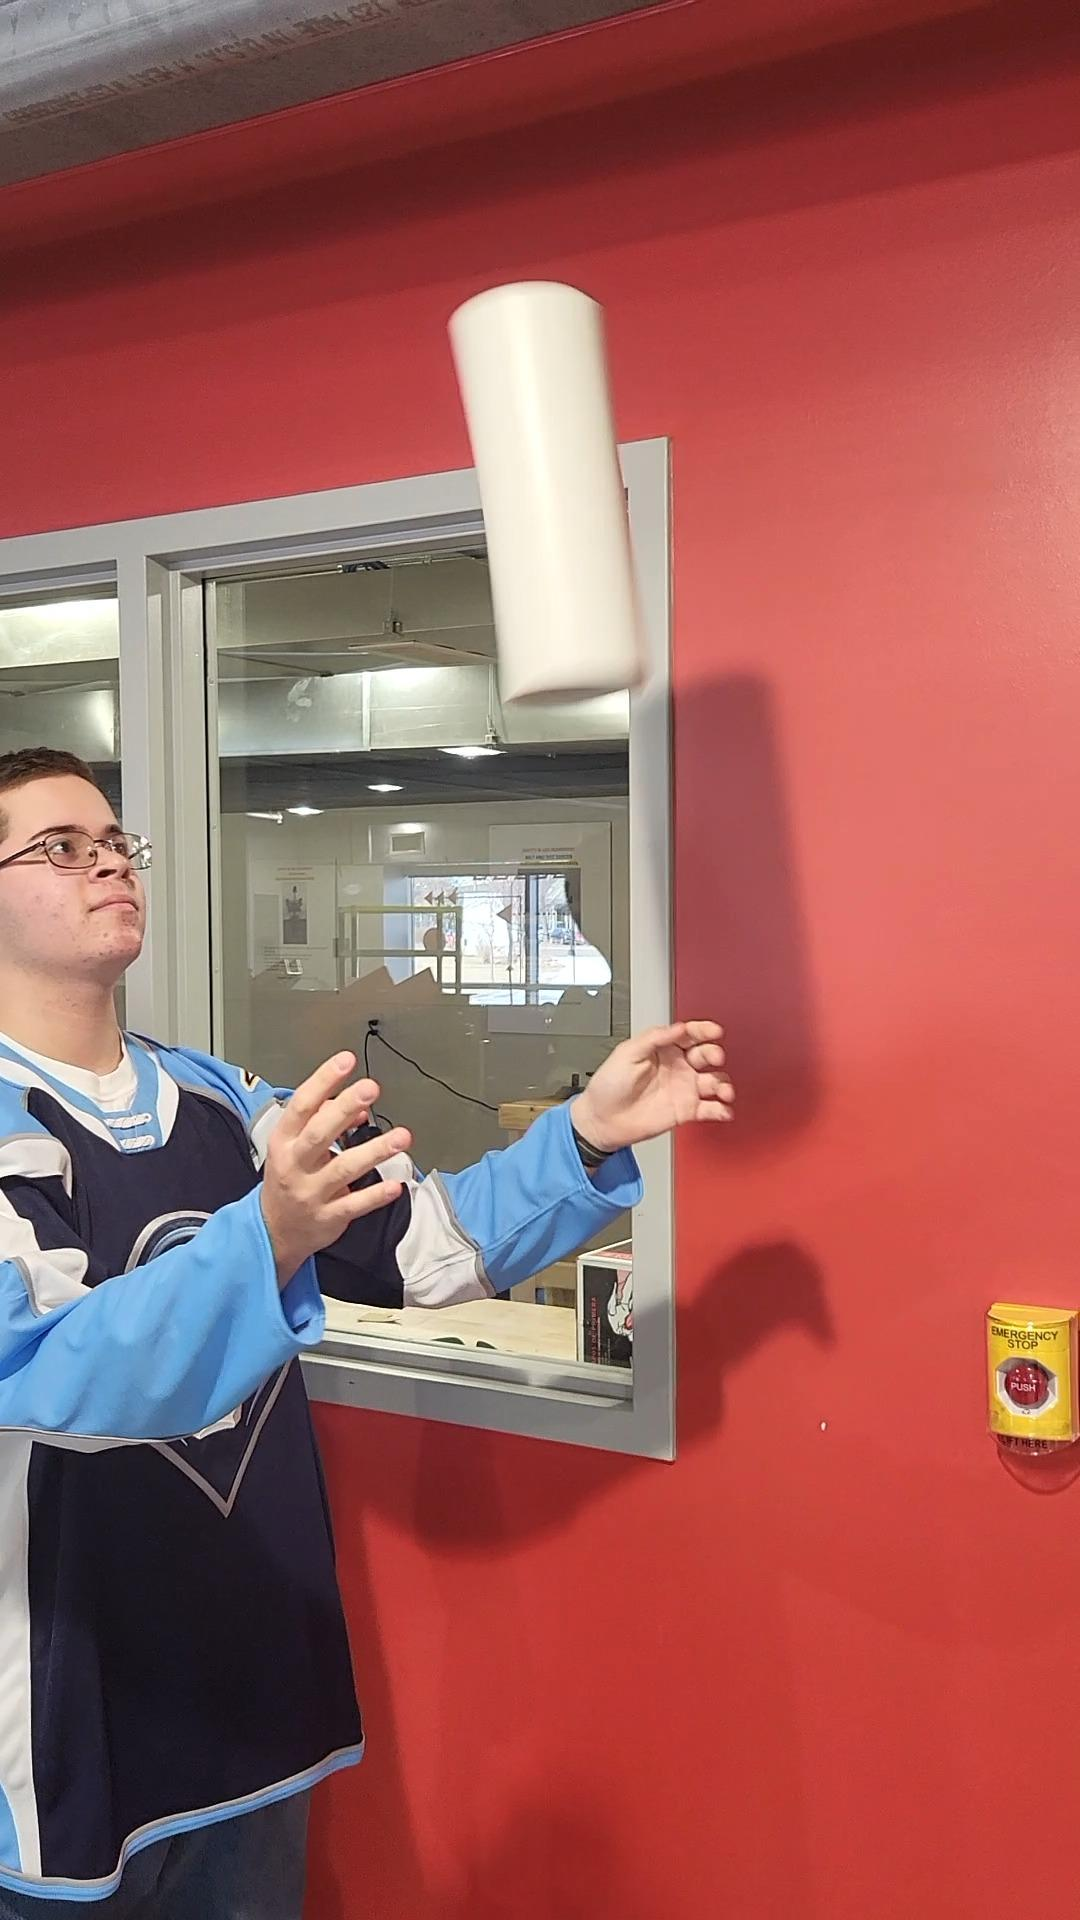coral: (454, 270, 657, 696)
